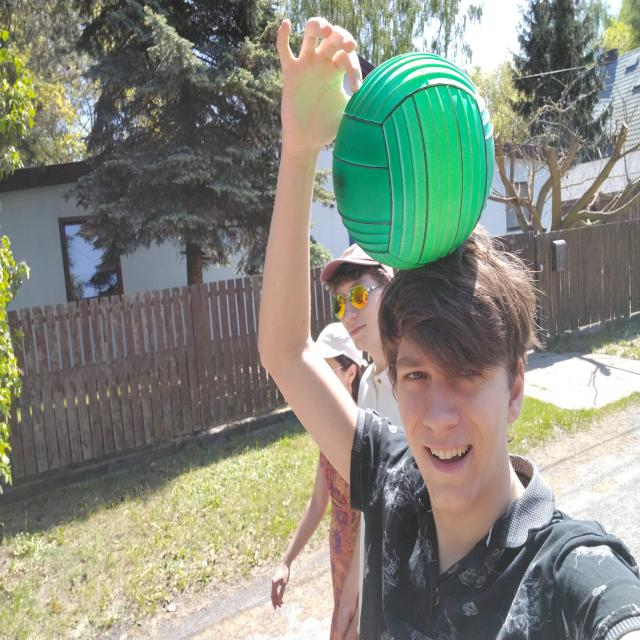zielona: (334, 51, 494, 272)
